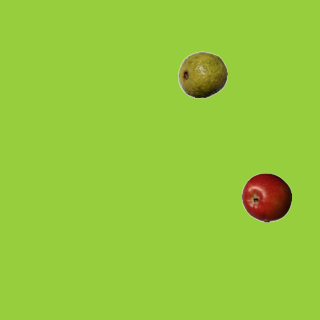Apple Braeburn: (241, 172, 291, 222)
Guava: (177, 49, 227, 99)
